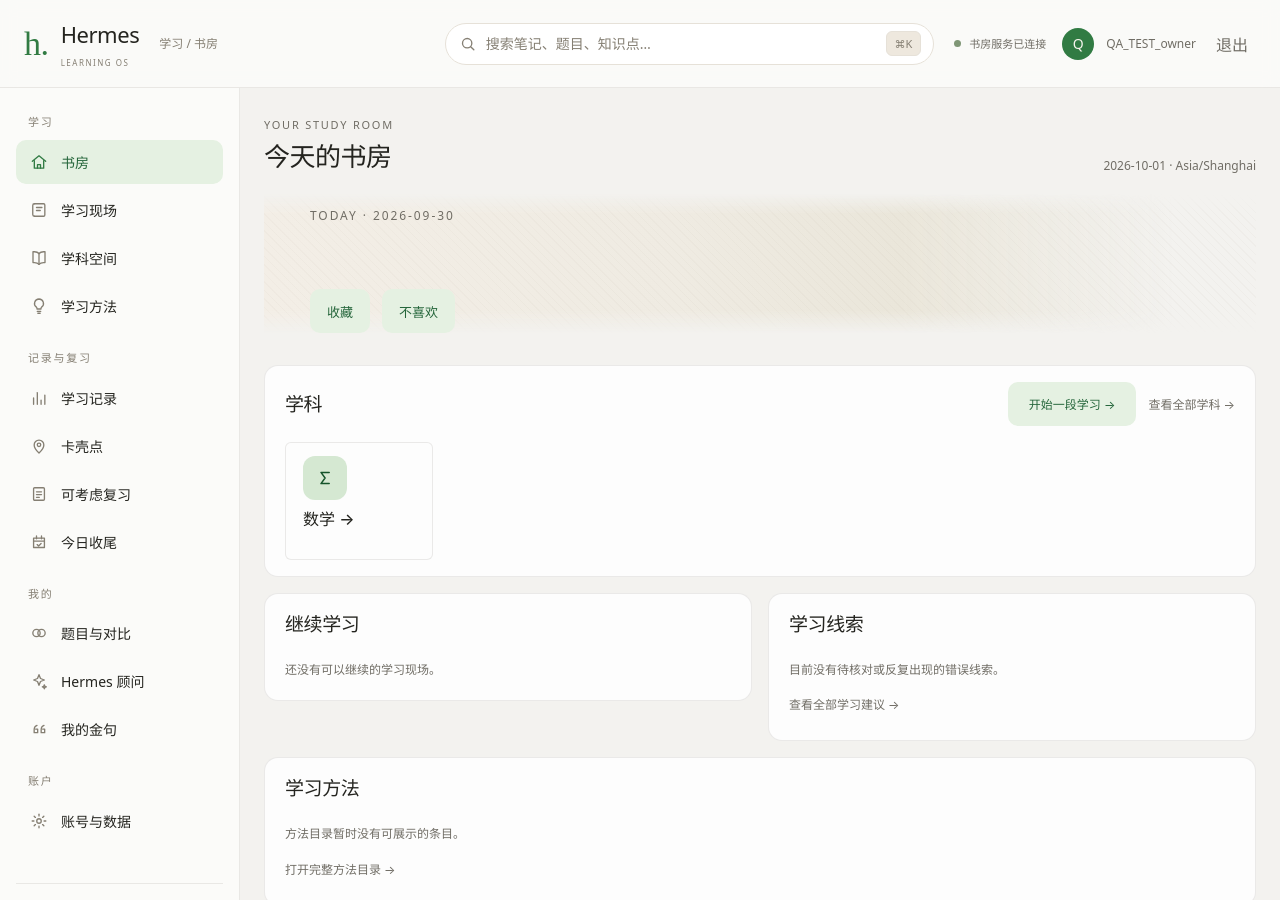
Scenario: study room integration › navigates to the problem comparison workspace from the study room navigation
Click the button "题目与对比" at (120, 633), box [16,611,223,655]
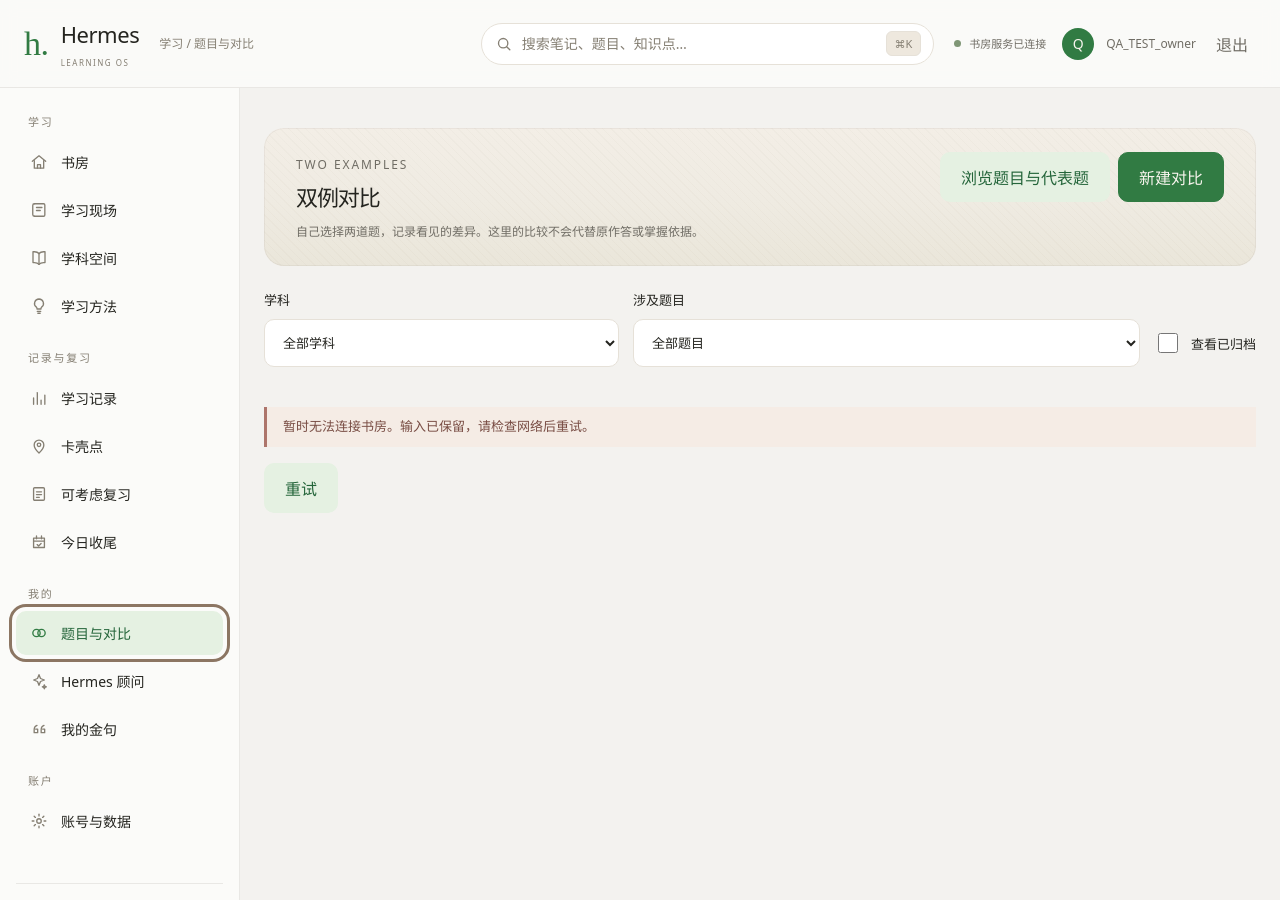
Expected: the heading "双例对比" is shown, [296,182,380,212]
Expected: the text "自己选择两道题，记录看见的差异。这里的比较不会代替原作答或掌握依据。" is shown, [296,221,704,242]
